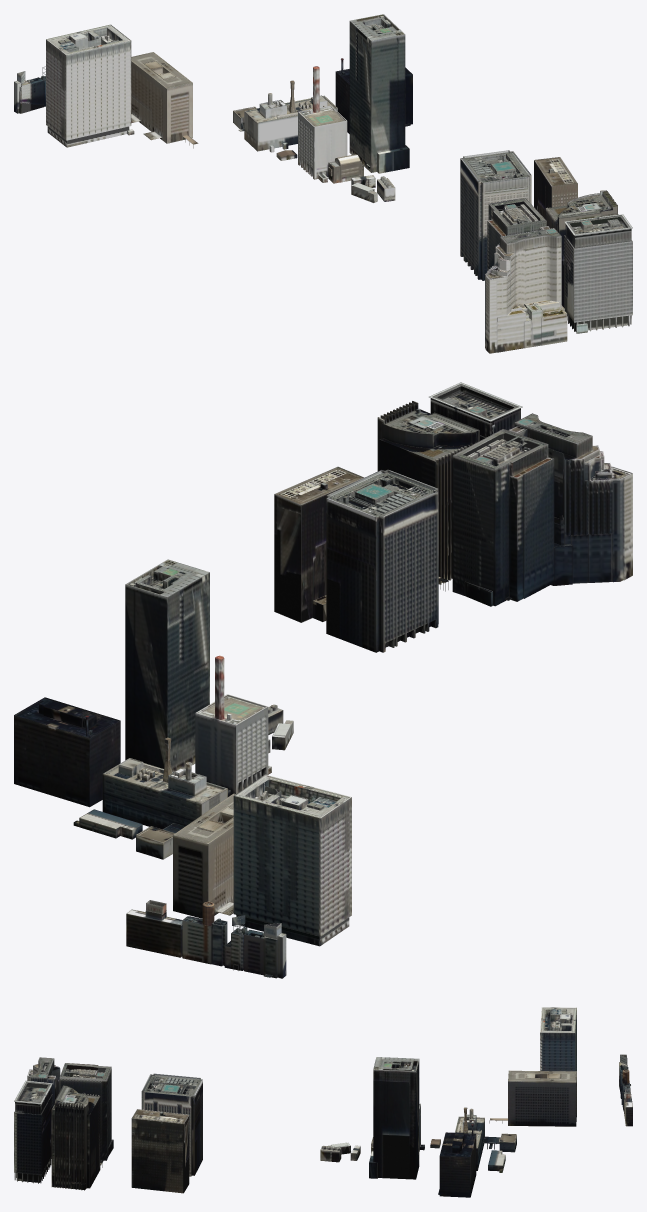
The model's file is 53394620_bldg_lod2.glb.
The picture shows the model from 3 angles, top to bottom: view 1: azimuth 30°, elevation 25°; view 2: azimuth 150°, elevation 25°; view 3: azimuth 270°, elevation 25°; orthographic projection. The views are drawn at different scales.
Parts seen in each view (by area): view 1: 53394620_bldg_lod2; view 2: 53394620_bldg_lod2; view 3: 53394620_bldg_lod2.
Part boxes in pixels (<box>): 53394620_bldg_lod2: <box>14,14,632,353</box>; 53394620_bldg_lod2: <box>14,382,632,978</box>; 53394620_bldg_lod2: <box>14,1007,632,1197</box>.
Bounding box in the file's own units: 357 × 160 × 810.
Materials: 1 (1 with a texture image).
